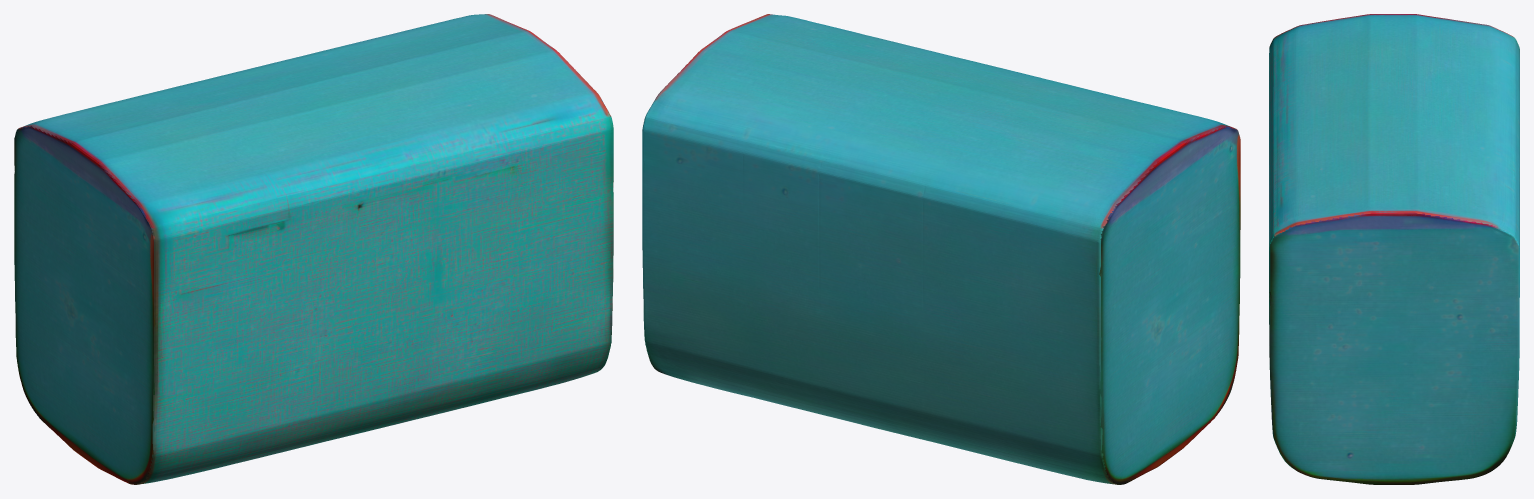
Rendered from image_0003_segmented.glb.
The picture shows the model from 3 angles, left to right: view 1: azimuth 30°, elevation 25°; view 2: azimuth 150°, elevation 25°; view 3: azimuth 270°, elevation 25°; orthographic projection. The views are drawn at different scales.
Parts seen in each view (by area): view 1: tmpdrgvt_fr.ply; view 2: tmpdrgvt_fr.ply; view 3: tmpdrgvt_fr.ply.
Boxes of the visible parts, <box> form: tmpdrgvt_fr.ply: <box>14,14,613,484</box>; tmpdrgvt_fr.ply: <box>642,14,1240,484</box>; tmpdrgvt_fr.ply: <box>1269,14,1519,484</box>.
Bounding box in the file's own units: 2 × 1.28 × 1.06.
Materials: 1 (1 with a texture image).
